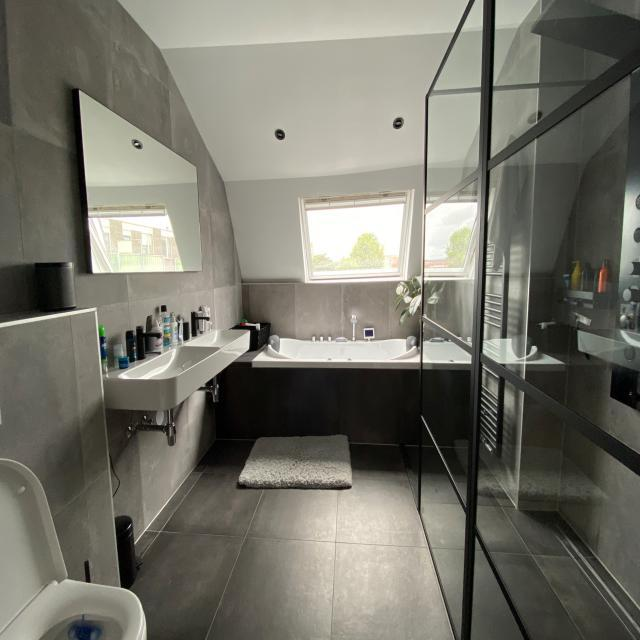bath: (248, 314, 569, 454)
designradiator: (472, 241, 510, 464)
douche: (414, 0, 640, 640)
toilet: (0, 453, 150, 640)
wastafel: (96, 306, 253, 448)
